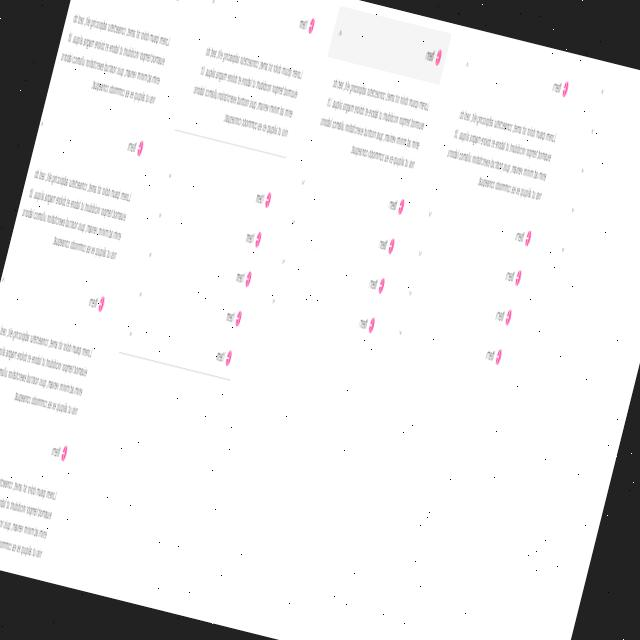VExpansionPanels: (0, 0, 193, 576), (260, 1, 453, 350), (387, 36, 579, 380), (118, 146, 282, 382), (173, 0, 325, 157), (550, 69, 640, 294)
